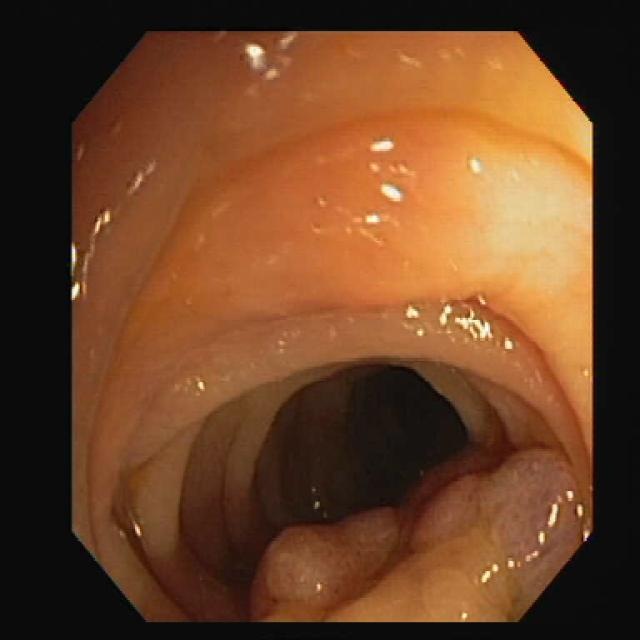tumor: (253, 451, 573, 616)
